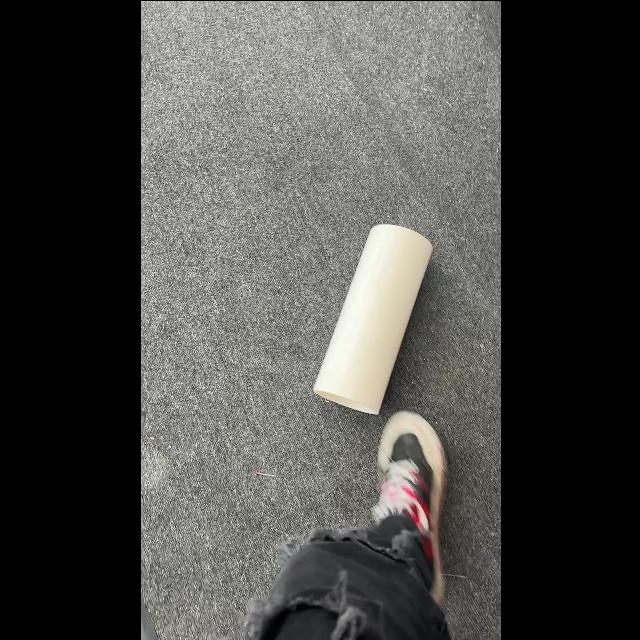CORAL: (312, 222, 432, 414)
